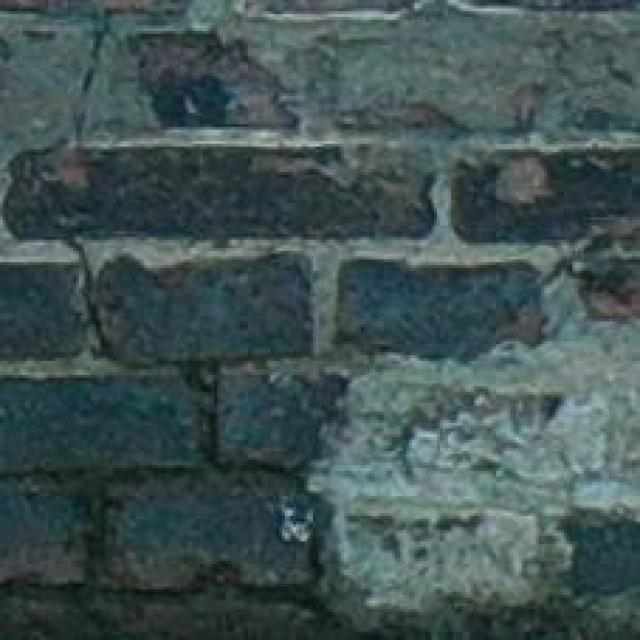Crack: (0, 0, 319, 640)
